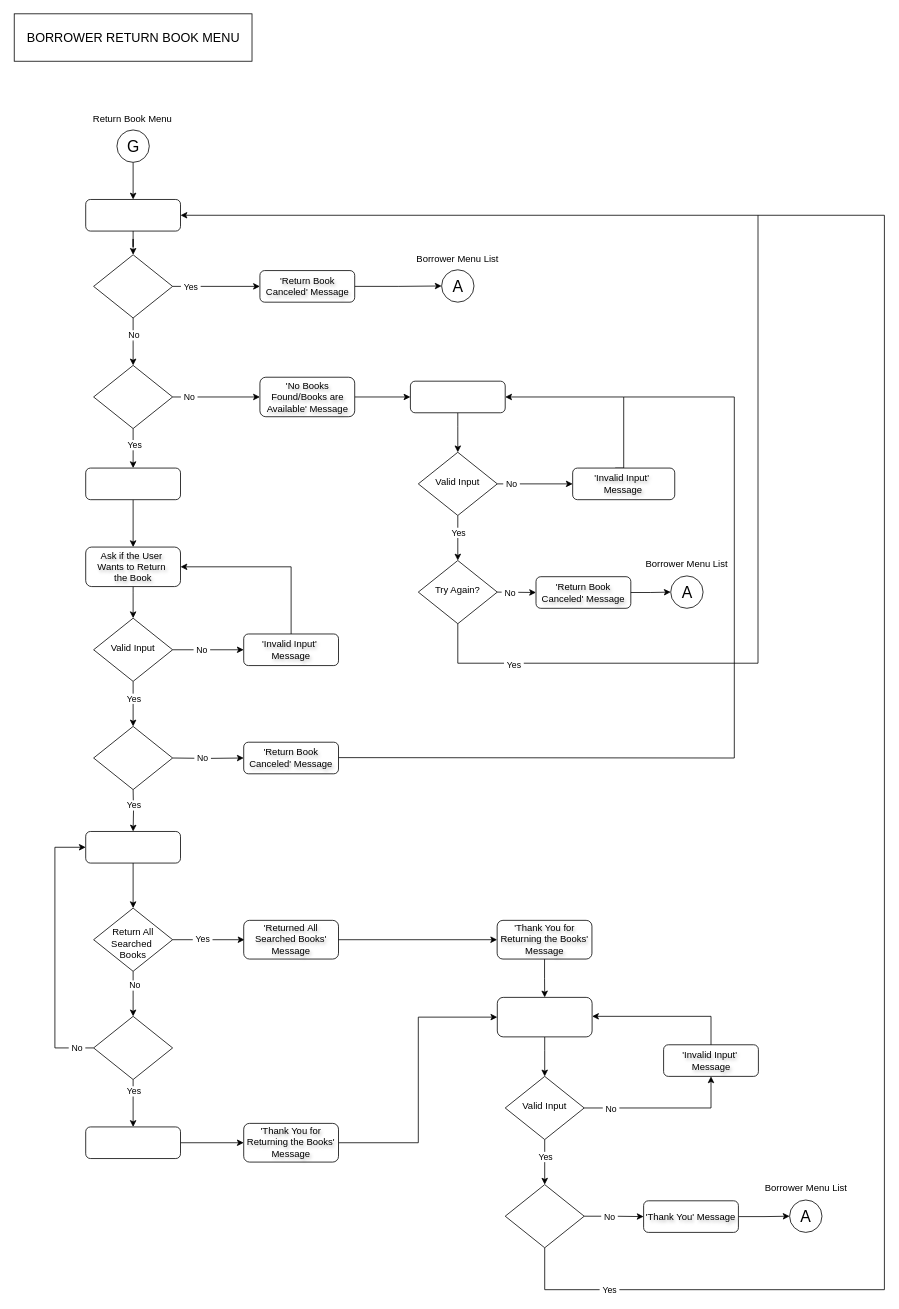
The diagram is 899 pixels wide and 1309 high, and some of its shapes have lost their labels. Here are the shapes that lost their labels. From the top down, the centre of each, then its label:
At (x=133, y=215): "Enter ISBN/Title of the Books".
At (x=133, y=286): "Exit".
At (x=133, y=397): "Books Searched Found".
At (x=457, y=396): "Ask if the User Wants to Try Again".
At (x=133, y=483): "Display Matched Books List".
At (x=133, y=758): "Return the Matched Book?".
At (x=133, y=847): "Enter Index Numbers of the Book".
At (x=544, y=1017): "Ask if the User Wants to Return Other Books".
At (x=133, y=1048): "Valid Index Numbers".
At (x=133, y=1142): "'Returned Selected Books' Message".
At (x=544, y=1216): "Return More Books?".
